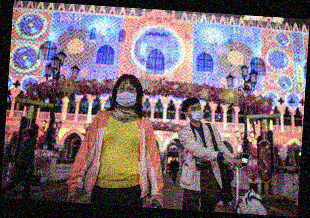with_mask: (114, 83, 139, 108), (186, 105, 205, 123)
